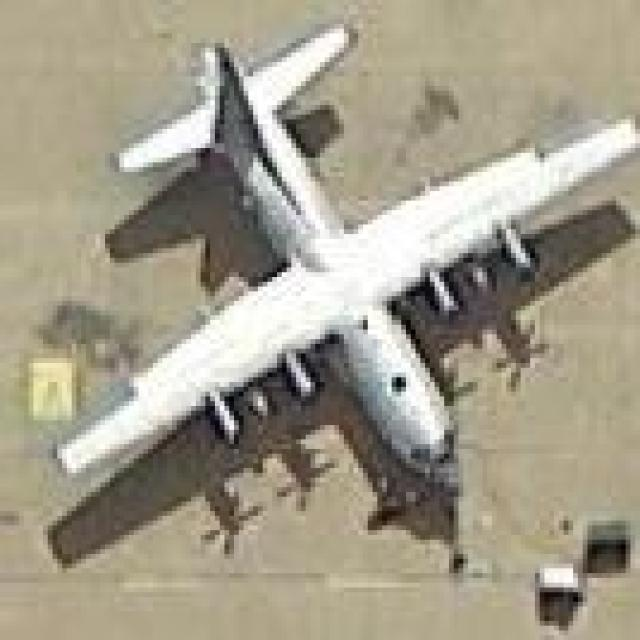C-130_TopDown: (41, 16, 640, 574)
